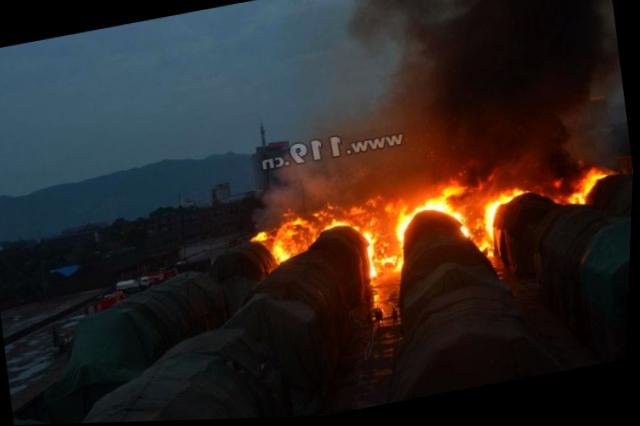fire: (244, 193, 395, 303), (388, 179, 481, 265), (476, 177, 539, 247), (559, 159, 613, 212)
